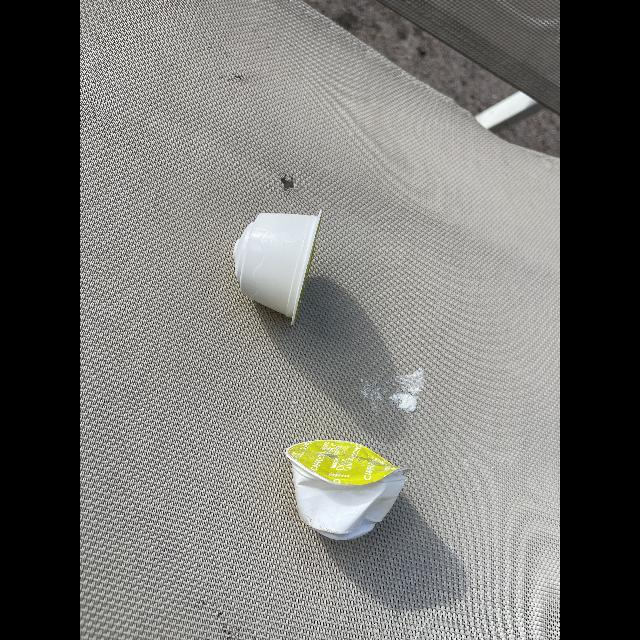damaged_capsule: (282, 436, 412, 544)
intact_capsule: (228, 204, 324, 324)
